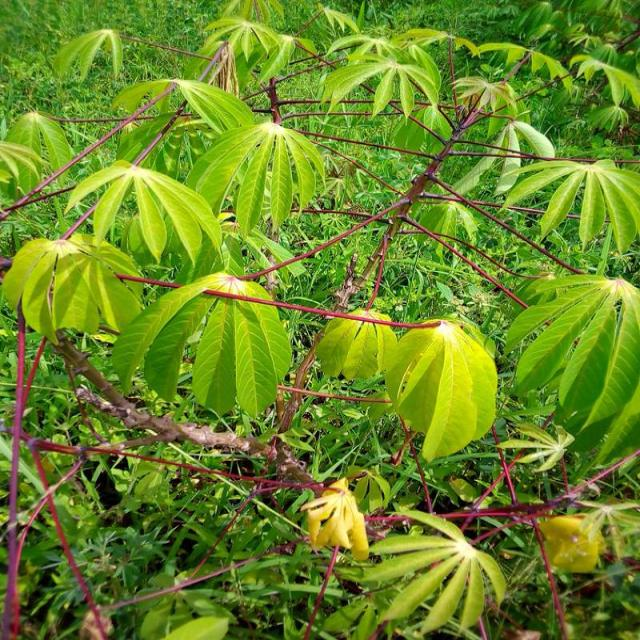cassava leaf: (506, 270, 640, 469), (383, 318, 499, 463), (192, 274, 293, 419), (316, 306, 398, 381)
